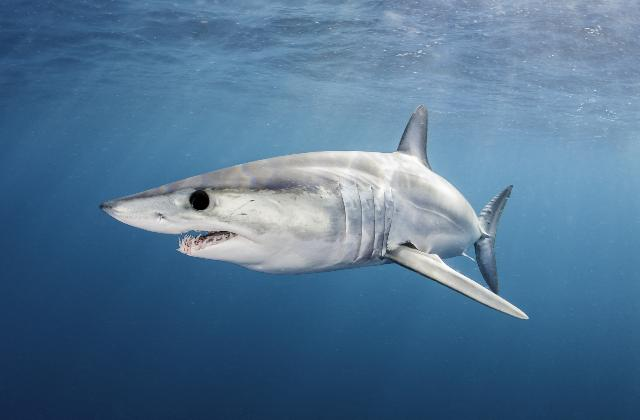Mulut: (167, 219, 245, 271)
Sirip Anal: (372, 222, 534, 328)
Sirip Perut: (472, 176, 526, 302)
